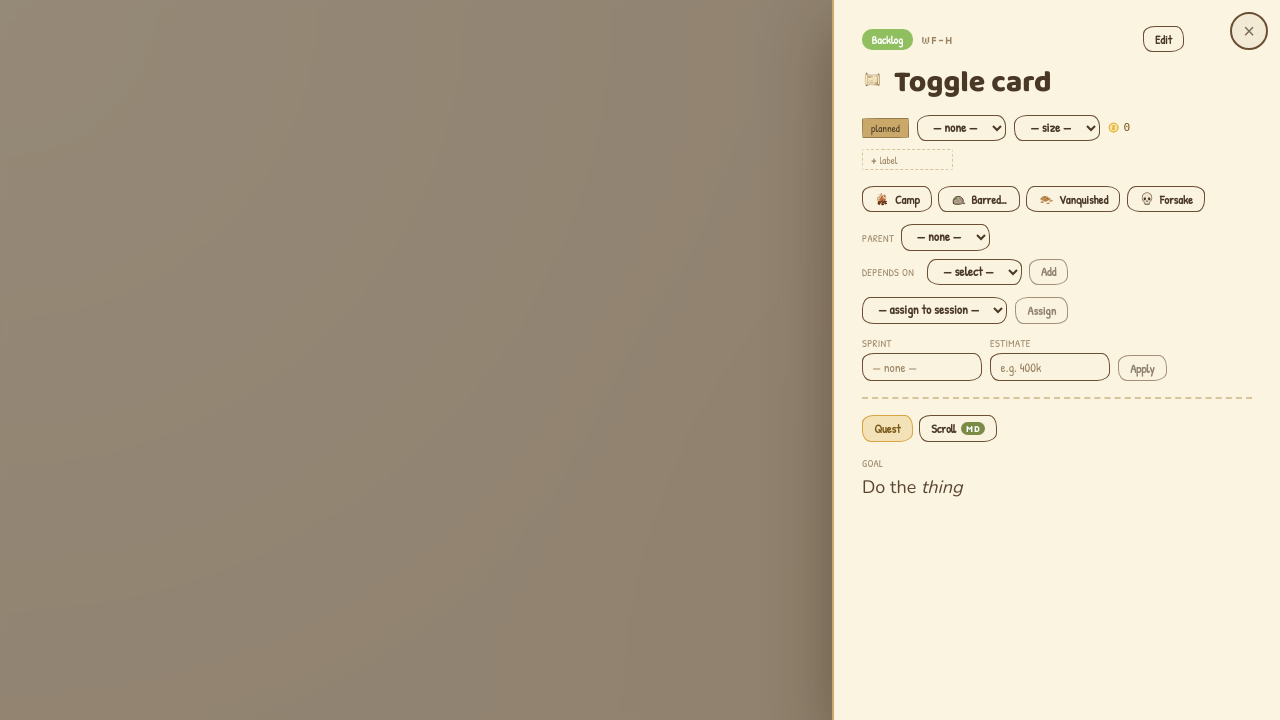
Test: <CardDetailDrawer/> › defaults to rendered view and toggles to verbatim source
Check: the heading "Toggle card" is shown, box [894,59,1052,107]
Click the button "Scroll MD".
click(958, 428)  # box [919,415,997,442]
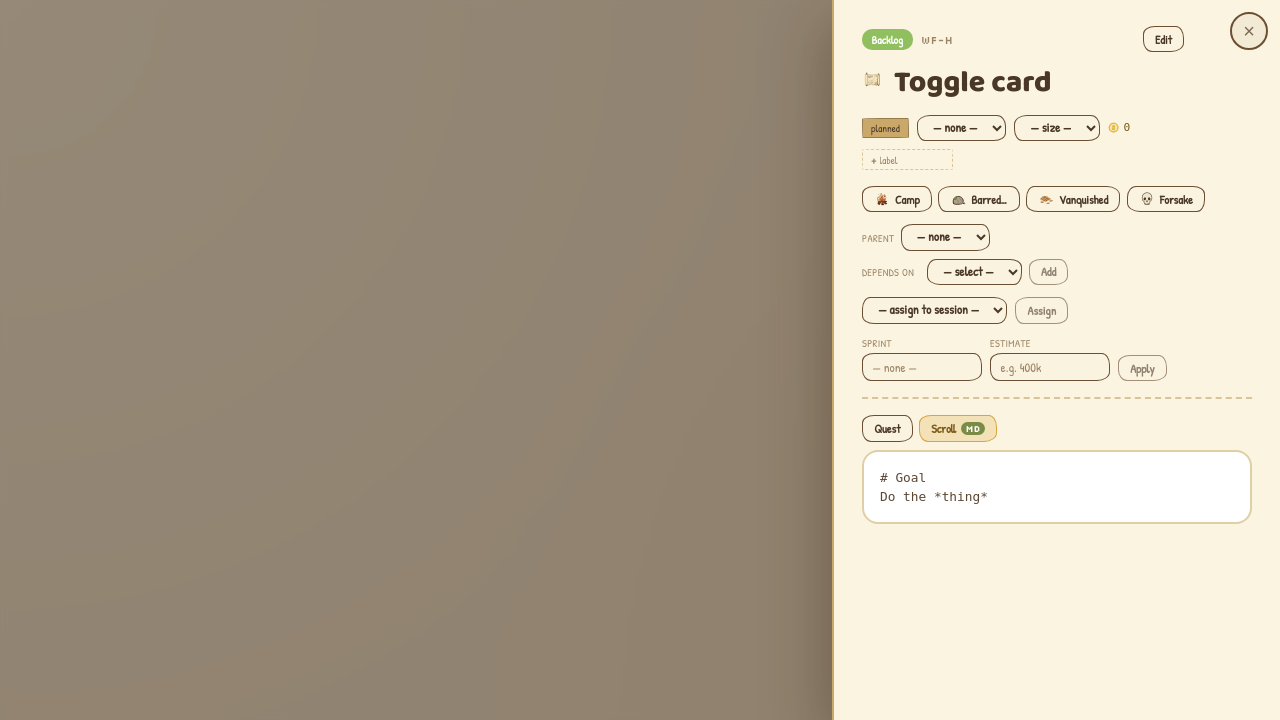
Check: the text with test id "card-source" shows "# Goal", box [880,470,988,504]
